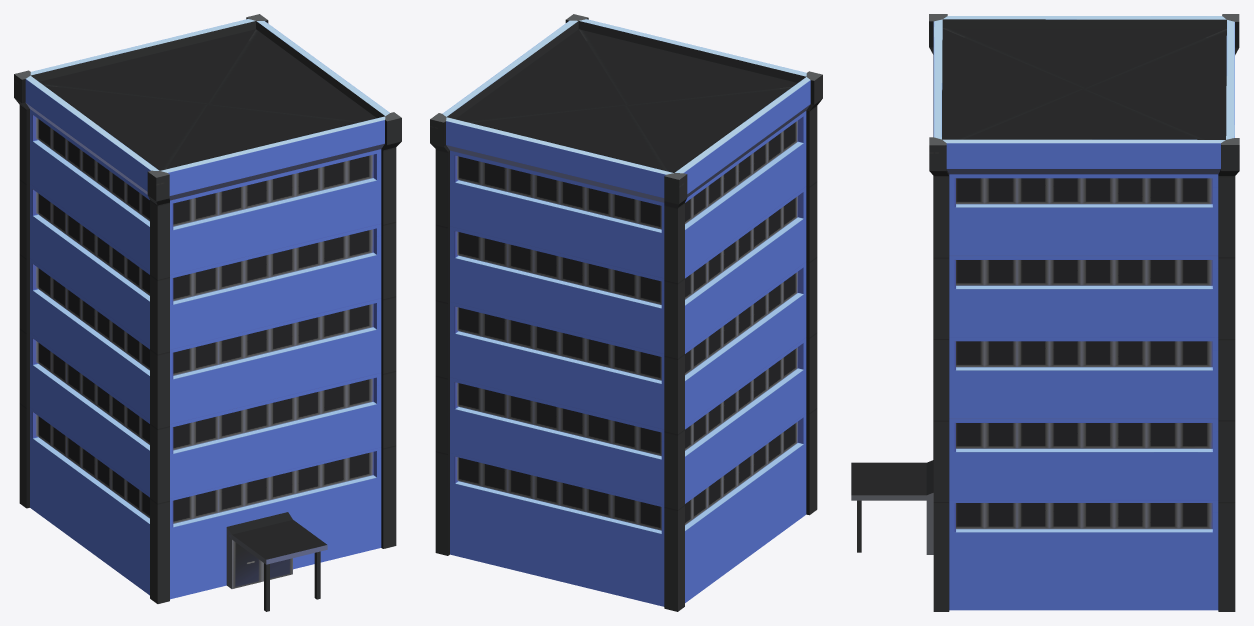
The model's file is apartment_5.glb.
The picture shows the model from 3 angles, left to right: view 1: azimuth 30°, elevation 25°; view 2: azimuth 150°, elevation 25°; view 3: azimuth 270°, elevation 25°; orthographic projection. The views are drawn at different scales.
Parts seen in each view (by area): view 1: Stack Big Blue; view 2: Stack Big Blue; view 3: Stack Big Blue.
Boxes of the visible parts, <box> form: Stack Big Blue: <box>14,14,401,611</box>; Stack Big Blue: <box>430,14,822,611</box>; Stack Big Blue: <box>851,14,1239,611</box>.
Bounding box in the file's own units: 0.6352 × 1.06 × 0.7942.
1 material, 1 textured.
